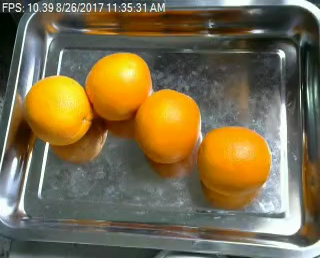Orange: (133, 87, 199, 163), (198, 126, 272, 191), (22, 76, 92, 144), (84, 52, 152, 120)
